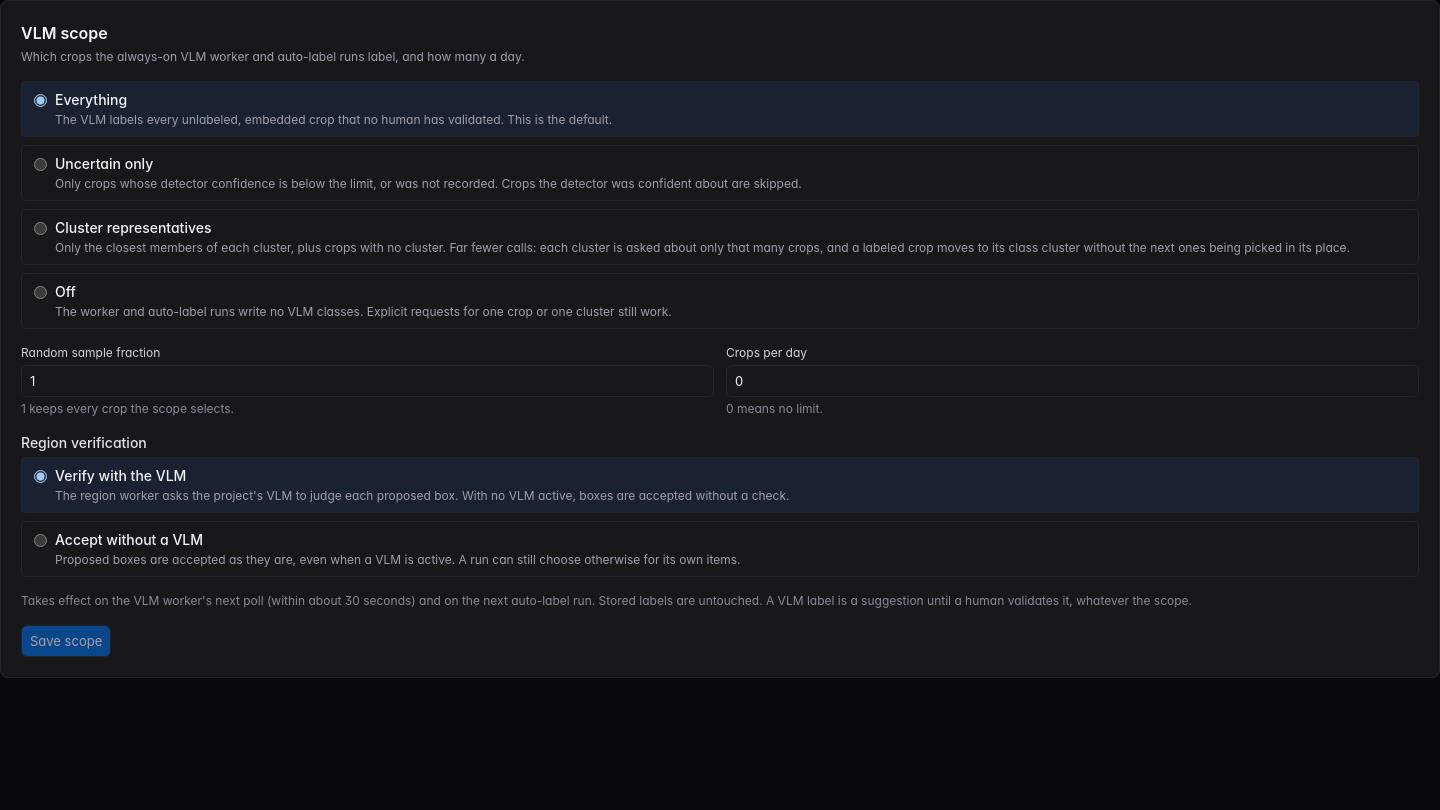
Test: VlmScopePanel › on a stale revision shows the served message with Reload and Keep my edits
Click the radio button with test id "vlm-scope-off": (40, 292) [34, 286, 47, 299]
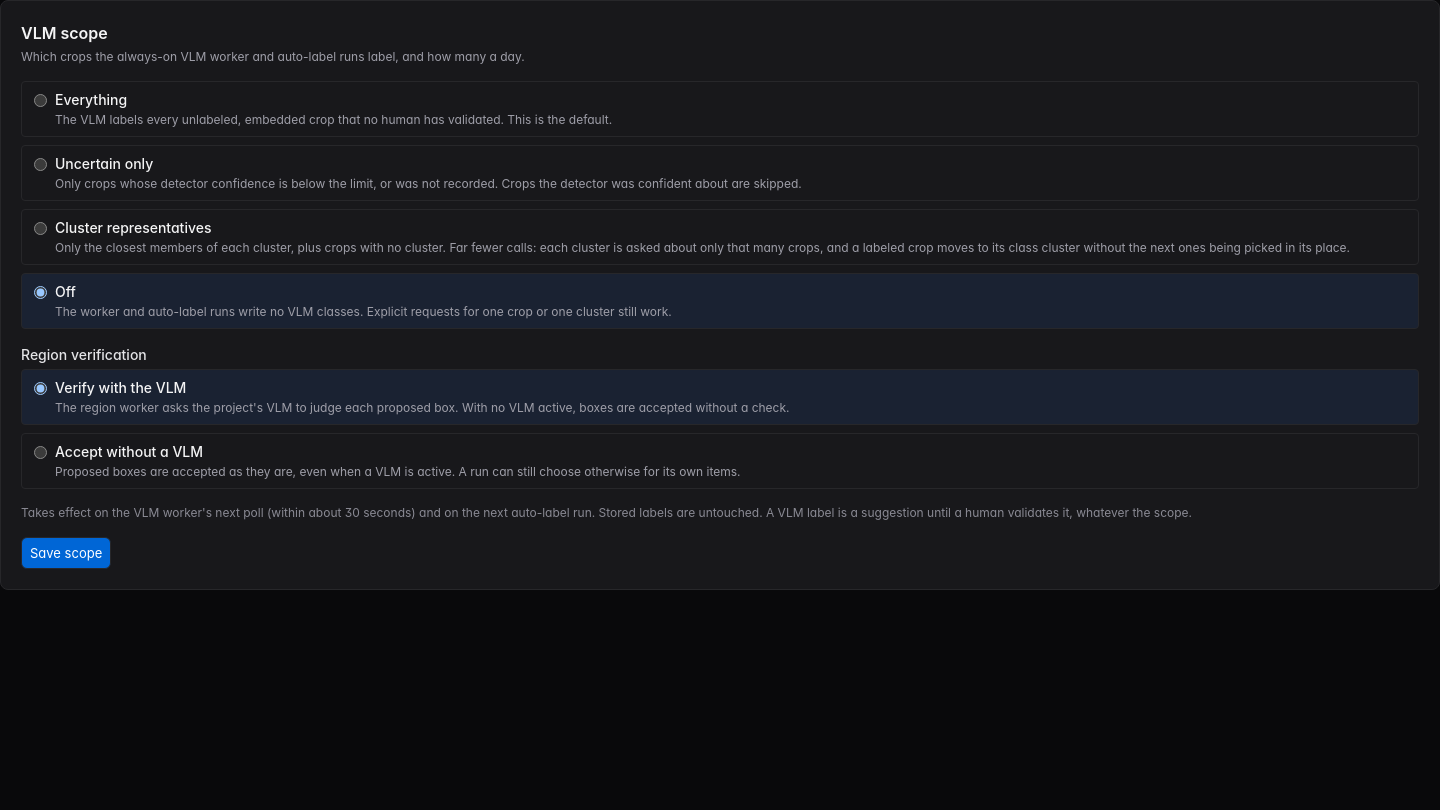
Click the button with test id "vlm-scope-save": (66, 553) [21, 537, 111, 569]
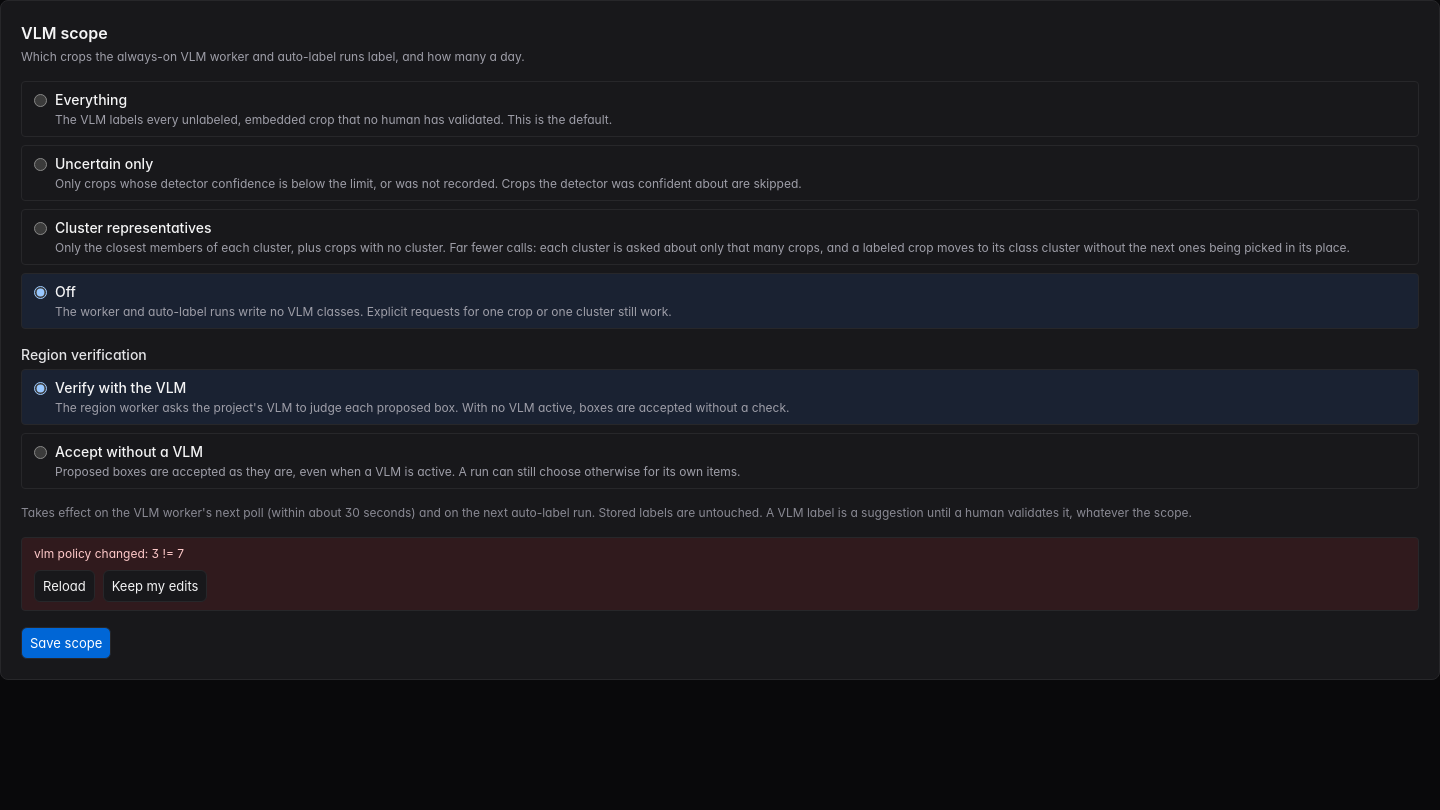
Expected: the element with test id "vlm-scope-save-error" is shown, [21, 537, 1419, 611]
Expected: the element with test id "vlm-scope-save-error" shows "vlm policy changed: 3 != 7", [34, 546, 184, 561]
Expected: the element with test id "vlm-scope-save-error" shows "Reload", [34, 570, 95, 602]
